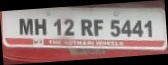character: (18, 18, 34, 36), (33, 17, 47, 36), (131, 19, 144, 38), (80, 19, 93, 37), (63, 18, 75, 37), (120, 19, 132, 37), (109, 19, 120, 37), (93, 18, 103, 35), (143, 20, 153, 37), (52, 17, 61, 35)
